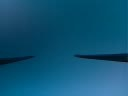window: (76, 1, 128, 96), (1, 1, 51, 62)
